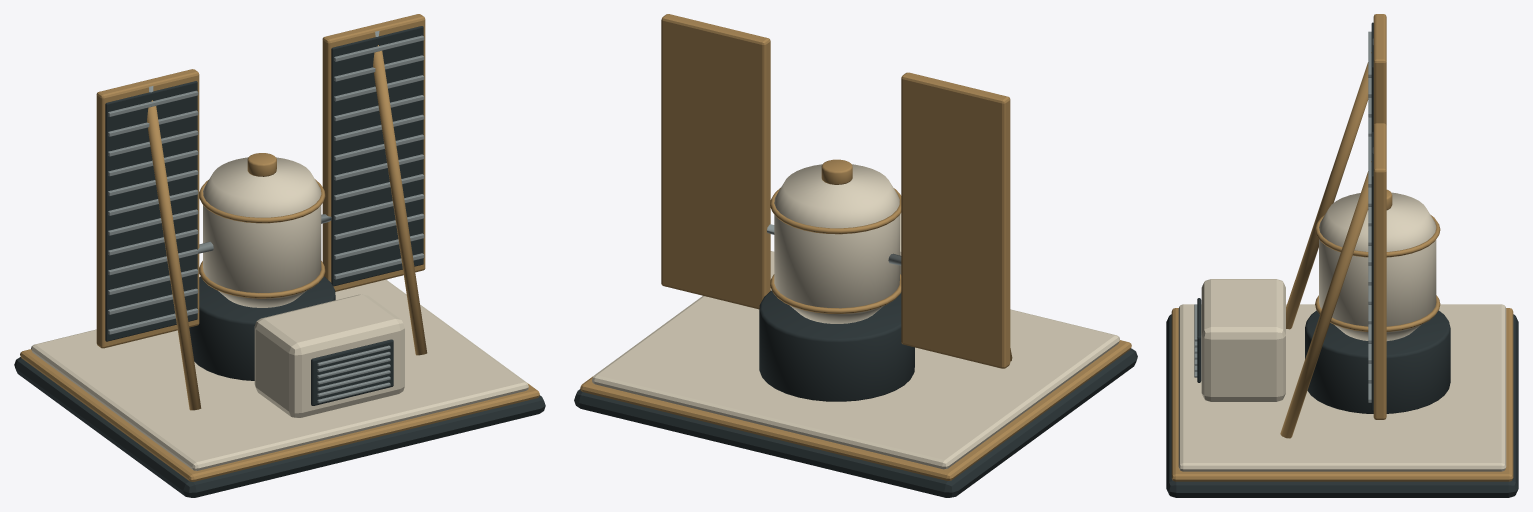
The model's file is reactor-p02.glb.
3 views of the same model, side by side, from view 1: azimuth 30°, elevation 25°; view 2: azimuth 150°, elevation 25°; view 3: azimuth 270°, elevation 25° (orthographic). The views are drawn at different scales.
Parts seen in each view (by area): view 1: H01 batch 02 / Ares S02 / ceramic pressure shell, H01 batch 00 / Ares S02 / charcoal seals, H01 batch 01 / Ares S02 / brushed bronze, H01 batch 03 / Ares S02 / titanium struts; view 2: H01 batch 01 / Ares S02 / brushed bronze, H01 batch 02 / Ares S02 / ceramic pressure shell, H01 batch 00 / Ares S02 / charcoal seals; view 3: H01 batch 02 / Ares S02 / ceramic pressure shell, H01 batch 01 / Ares S02 / brushed bronze, H01 batch 00 / Ares S02 / charcoal seals, H01 batch 03 / Ares S02 / titanium struts.
Part boxes in pixels (<box>): H01 batch 02 / Ares S02 / ceramic pressure shell: <box>31,157,528,470</box>; H01 batch 00 / Ares S02 / charcoal seals: <box>14,26,545,497</box>; H01 batch 01 / Ares S02 / brushed bronze: <box>20,14,539,481</box>; H01 batch 03 / Ares S02 / titanium struts: <box>108,30,424,402</box>; H01 batch 01 / Ares S02 / brushed bronze: <box>580,14,1131,480</box>; H01 batch 02 / Ares S02 / ceramic pressure shell: <box>592,164,1119,469</box>; H01 batch 00 / Ares S02 / charcoal seals: <box>574,290,1137,497</box>; H01 batch 02 / Ares S02 / ceramic pressure shell: <box>1178,192,1506,471</box>; H01 batch 01 / Ares S02 / brushed bronze: <box>1171,14,1513,481</box>; H01 batch 00 / Ares S02 / charcoal seals: <box>1166,22,1518,497</box>; H01 batch 03 / Ares S02 / titanium struts: <box>1194,31,1373,402</box>.
Bounding box in the file's own units: 1.76 × 1.52 × 1.5.
